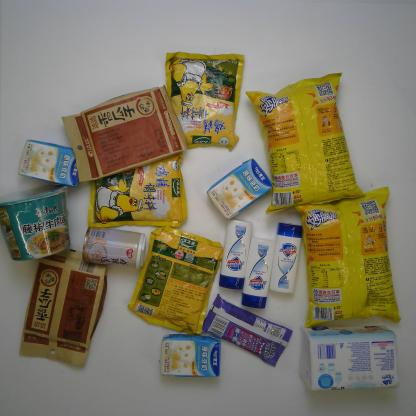Candy: (200, 292, 295, 368)
Canned Food: (81, 224, 149, 271)
Dried Food: (60, 84, 191, 183), (17, 243, 113, 371)
Instant Noodles: (0, 183, 72, 261)
Milk: (205, 157, 275, 223), (15, 137, 85, 189), (157, 330, 222, 380)
Personal Hygiene: (266, 221, 306, 297), (239, 235, 277, 310), (218, 217, 254, 291)
Puffed Food: (244, 71, 368, 216), (292, 184, 404, 330)
Seasoner: (126, 223, 227, 336), (85, 147, 190, 232), (163, 50, 246, 153)
Tissue: (296, 322, 403, 394)
